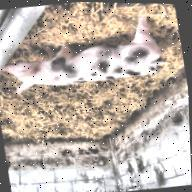boar: (0, 6, 169, 100)
